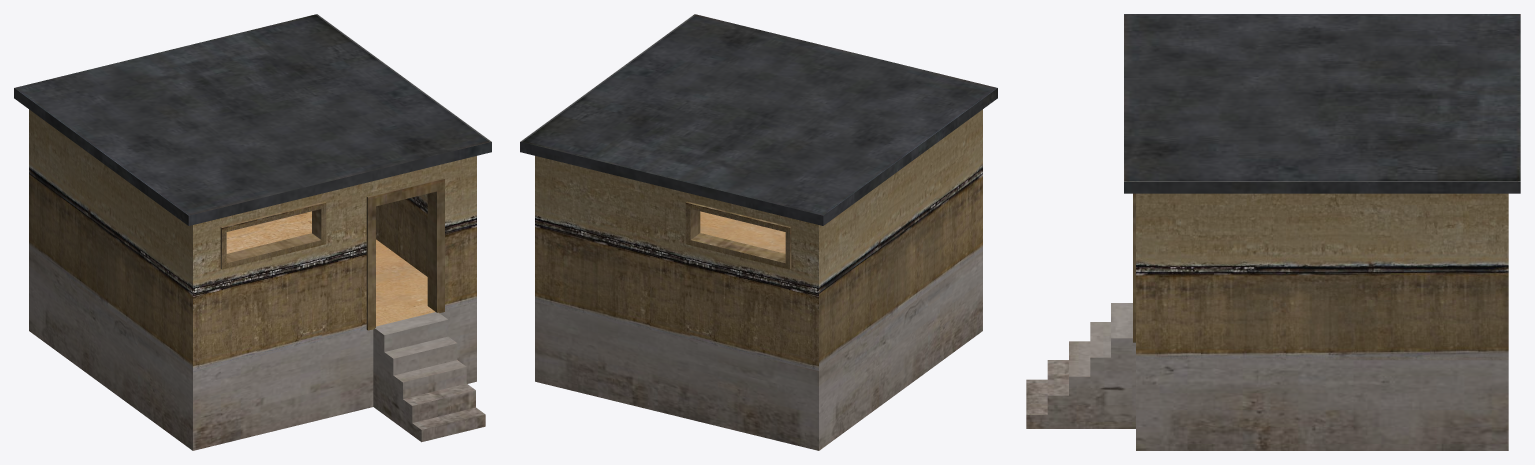
The model's file is Building 02.obj.
3 views of the same model, side by side, from view 1: azimuth 30°, elevation 25°; view 2: azimuth 150°, elevation 25°; view 3: azimuth 270°, elevation 25° (orthographic). The views are drawn at different scales.
Visible parts, largest first — view 1: mesh01; view 2: mesh01; view 3: mesh01.
Boxes of the visible parts, x1=… form: mesh01: x1=14, y1=14, x2=491, y2=450; mesh01: x1=520, y1=14, x2=997, y2=450; mesh01: x1=1026, y1=14, x2=1520, y2=450.
Size of the model in its own units: 5.22 by 3.97 by 6.49.
1 material, 1 textured.
